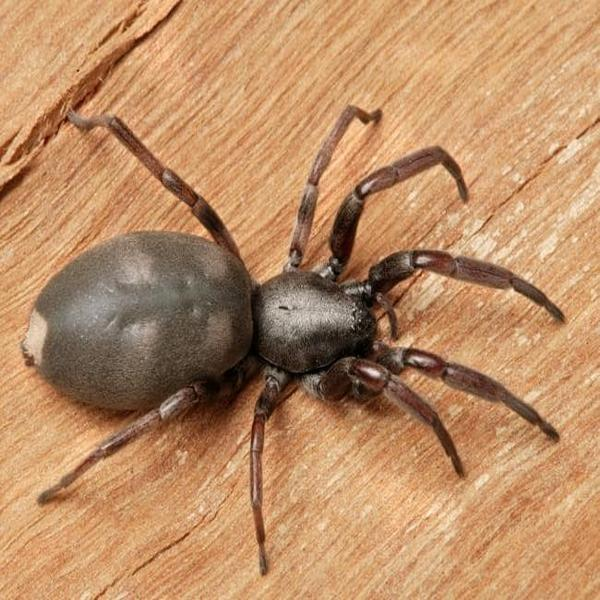White-Tailed Spider: (48, 107, 567, 551)
